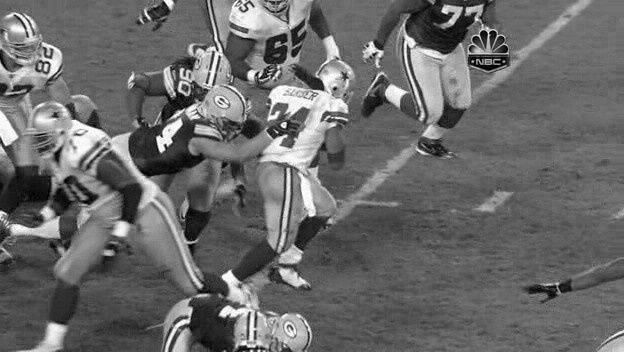person: (320, 59, 355, 104), (319, 59, 354, 104), (321, 59, 356, 104), (320, 58, 355, 103), (320, 60, 355, 105)
target_negative: (285, 90, 417, 325), (360, 101, 472, 273), (503, 67, 624, 200), (235, 173, 258, 274), (328, 34, 334, 306), (598, 50, 610, 88)
